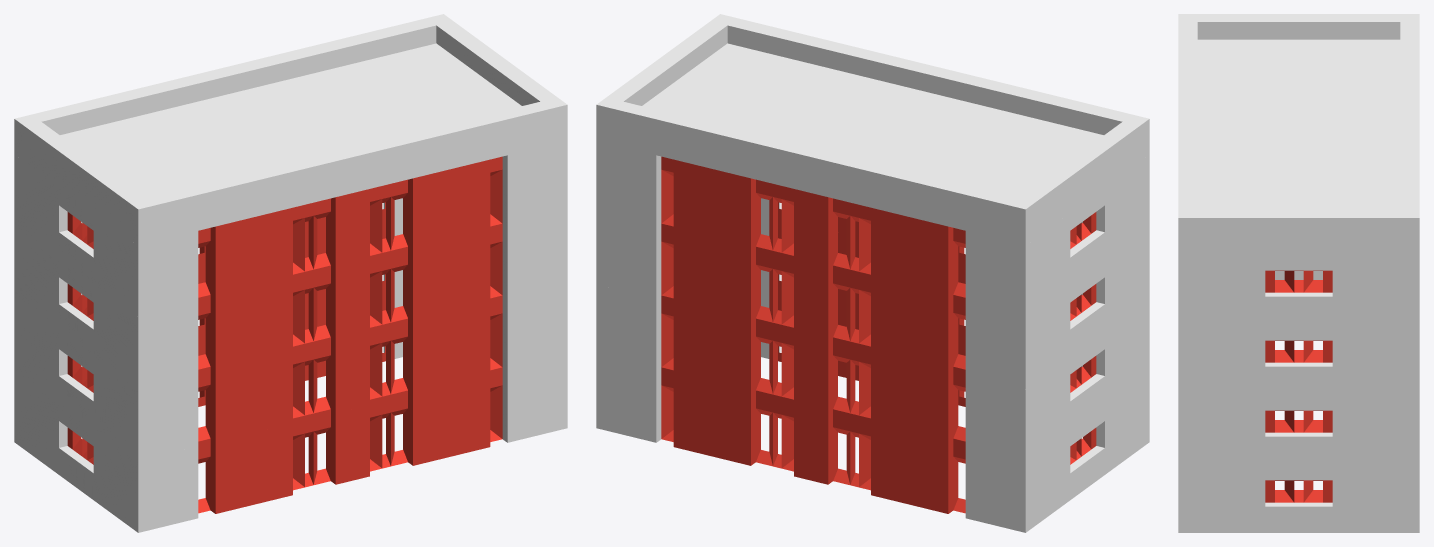
File: group1588873527_lev3.glb
3 renders of one model, left to right at view 1: azimuth 30°, elevation 25°; view 2: azimuth 150°, elevation 25°; view 3: azimuth 270°, elevation 25°, orthographic. The views are drawn at different scales.
Parts seen in each view (by area): view 1: group1588873527_lev3; view 2: group1588873527_lev3; view 3: group1588873527_lev3.
Boxes of the visible parts, bbox=[...] form: group1588873527_lev3: bbox=[14, 14, 567, 532]; group1588873527_lev3: bbox=[596, 14, 1149, 532]; group1588873527_lev3: bbox=[1178, 14, 1419, 532].
Bounding box in the file's own units: 9.38 × 6.76 × 4.69.
